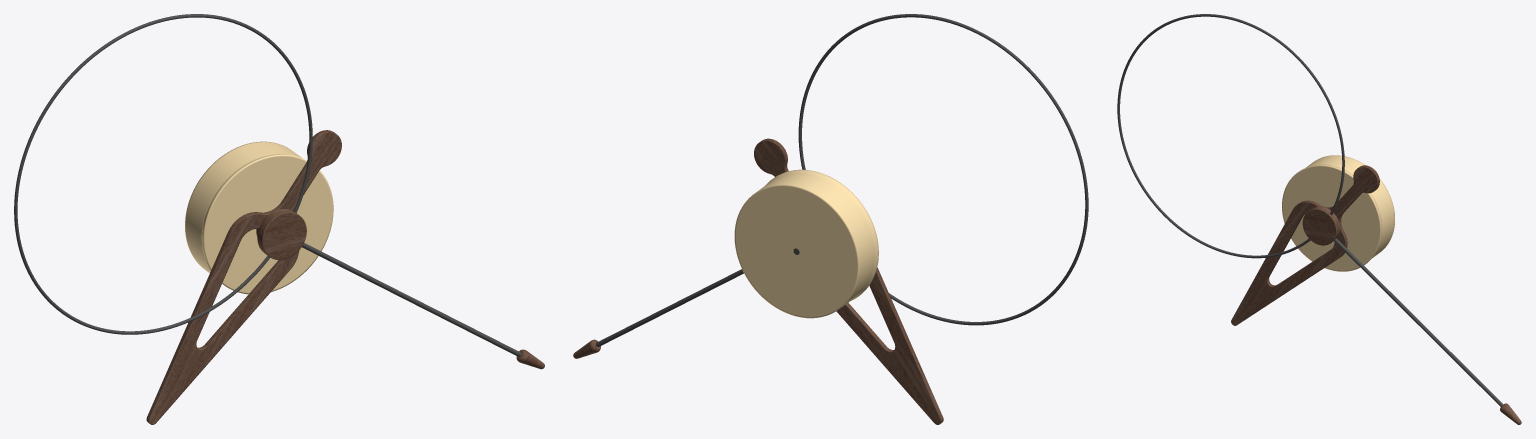
Rendered from clock78083.glb.
3 views of the same model, side by side, from view 1: azimuth 30°, elevation 25°; view 2: azimuth 150°, elevation 25°; view 3: azimuth 330°, elevation 25° (orthographic). The views are drawn at different scales.
Parts seen in each view (by area): view 1: clock78083; view 2: clock78083; view 3: clock78083.
Boxes of the visible parts, x1,y1,x2,y2 form: clock78083: [14, 14, 544, 424]; clock78083: [573, 14, 1088, 424]; clock78083: [1117, 14, 1521, 424].
Bounding box in the file's own units: 0.3588 × 0.2864 × 0.0429.
1 material, 1 textured.
